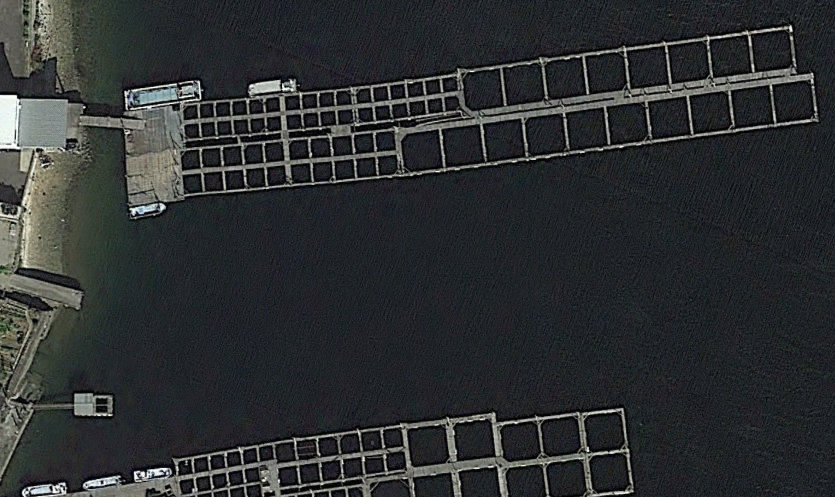platform: (120, 106, 184, 203), (68, 388, 118, 423)
ship: (122, 83, 204, 104), (236, 74, 305, 96), (129, 197, 169, 225), (20, 481, 72, 497), (133, 461, 174, 481), (80, 471, 128, 487)
